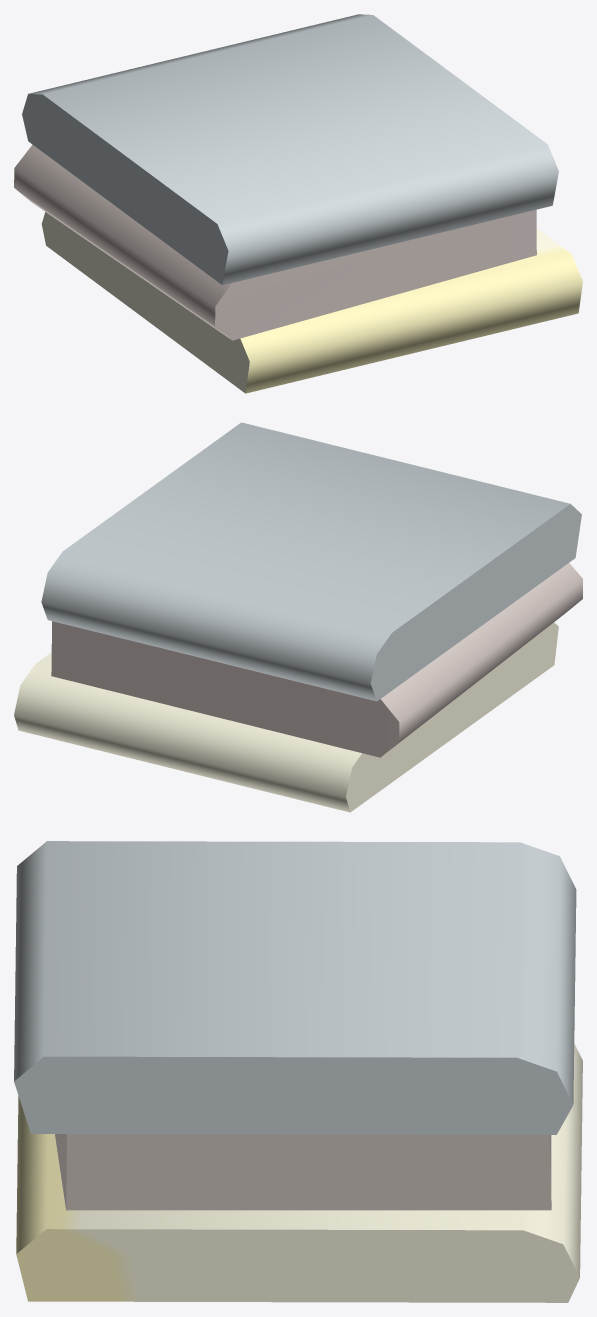
File: shop_038.fbx
3 views of the same model, one above another, from view 1: azimuth 30°, elevation 25°; view 2: azimuth 150°, elevation 25°; view 3: azimuth 270°, elevation 25° (orthographic). The views are drawn at different scales.
Visible parts, largest first — view 1: shop_038; view 2: shop_038; view 3: shop_038.
Boxes of the visible parts, box(x1,y1,x2,y2) form: shop_038: box(14, 14, 582, 393); shop_038: box(14, 422, 582, 812); shop_038: box(14, 841, 582, 1302).
Bounding box in the file's own units: 41.03 × 40.48 × 17.96.
